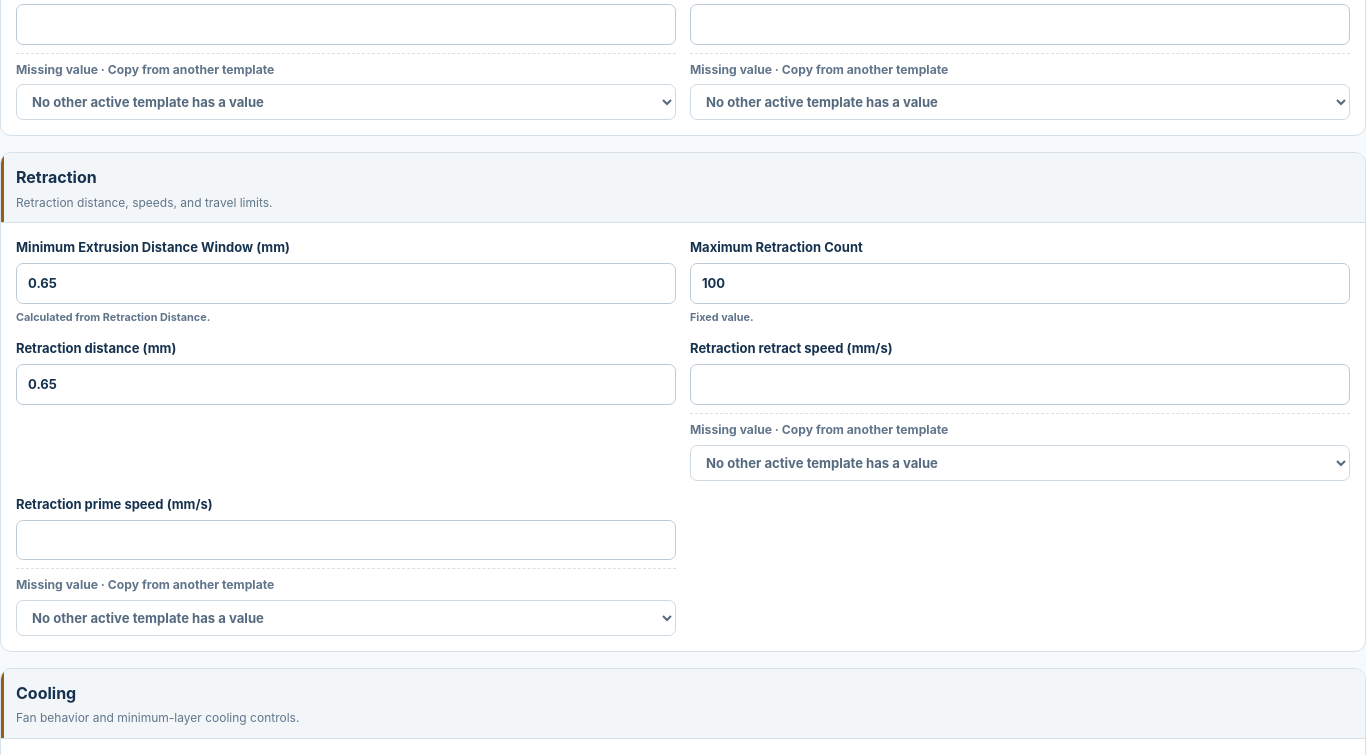
Scenario: shows read-only retraction safeguards and updates the derived window live
(page scrolled)
Check: the field labelled "Minimum Extrusion Distance Window" holds "0.65", box x1=16 y1=263 x2=676 y2=304
Check: the field labelled "Maximum Retraction Count Fixed value." holds "100", box x1=690 y1=263 x2=1350 y2=304
Replace the text in the number field labelled "Retraction distance (mm)" with "1.5" at point(346, 385), box x1=16 y1=364 x2=676 y2=405
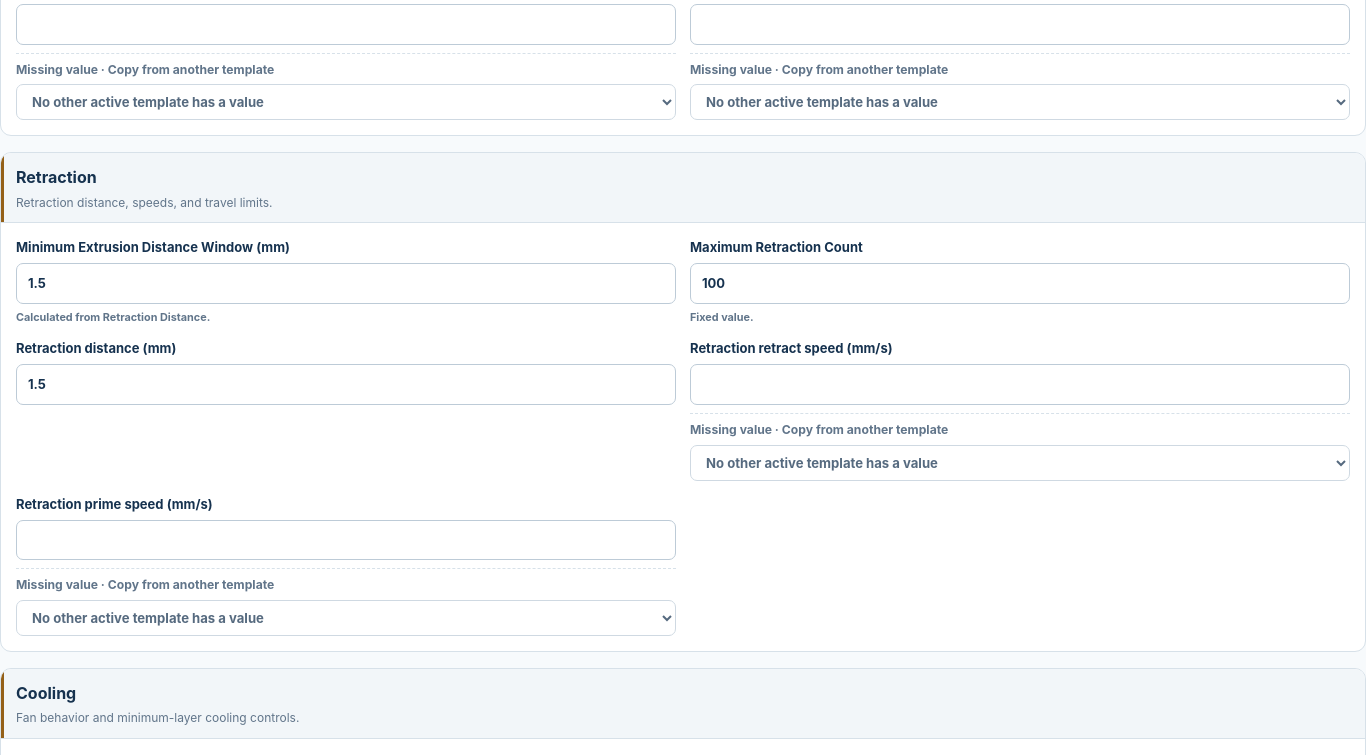
Check: the field labelled "Minimum Extrusion Distance Window" holds "1.5", box x1=16 y1=263 x2=676 y2=304
